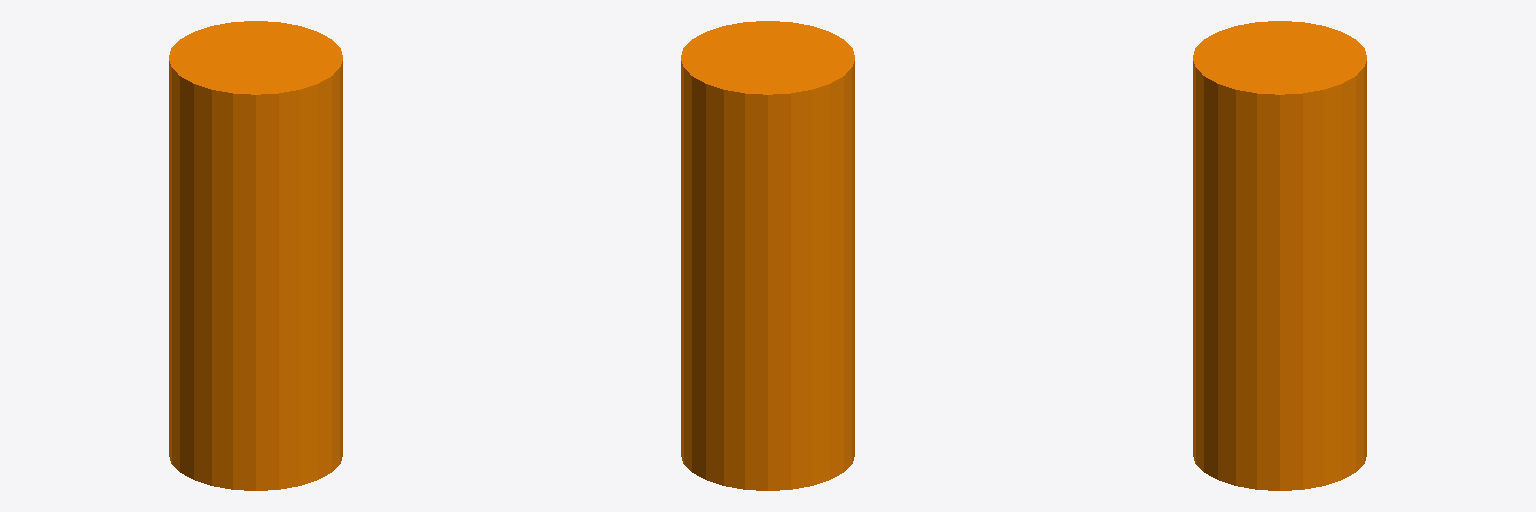
3 views of the same model, side by side, from view 1: azimuth 30°, elevation 25°; view 2: azimuth 150°, elevation 25°; view 3: azimuth 270°, elevation 25° (orthographic).
Parts seen in each view (by area): view 1: foamBulletA; view 2: foamBulletA; view 3: foamBulletA.
Boxes of the visible parts, box(x1,y1,x2,y2) form: foamBulletA: box(169, 21, 342, 490); foamBulletA: box(681, 21, 854, 490); foamBulletA: box(1193, 21, 1366, 490).
Bounding box in the file's own units: 0.02 × 0.05 × 0.02.